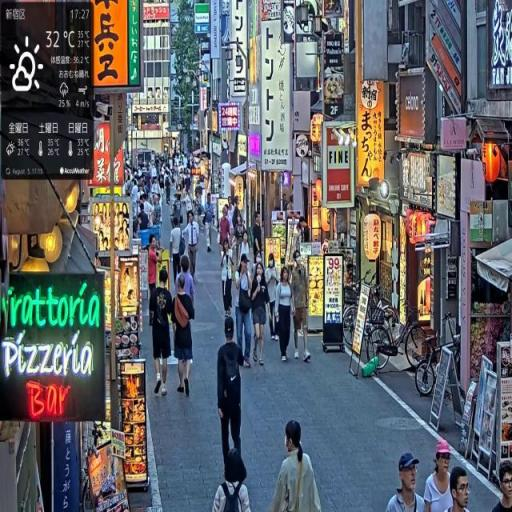person: (269, 420, 324, 512), (217, 316, 245, 481), (151, 267, 177, 398), (385, 451, 430, 512), (173, 277, 195, 398), (213, 447, 253, 512), (423, 435, 456, 512), (251, 260, 272, 369), (275, 270, 296, 363), (265, 253, 282, 340), (490, 460, 512, 512), (185, 212, 201, 283), (448, 468, 472, 512), (219, 206, 234, 271), (171, 218, 184, 290), (205, 196, 216, 253)
